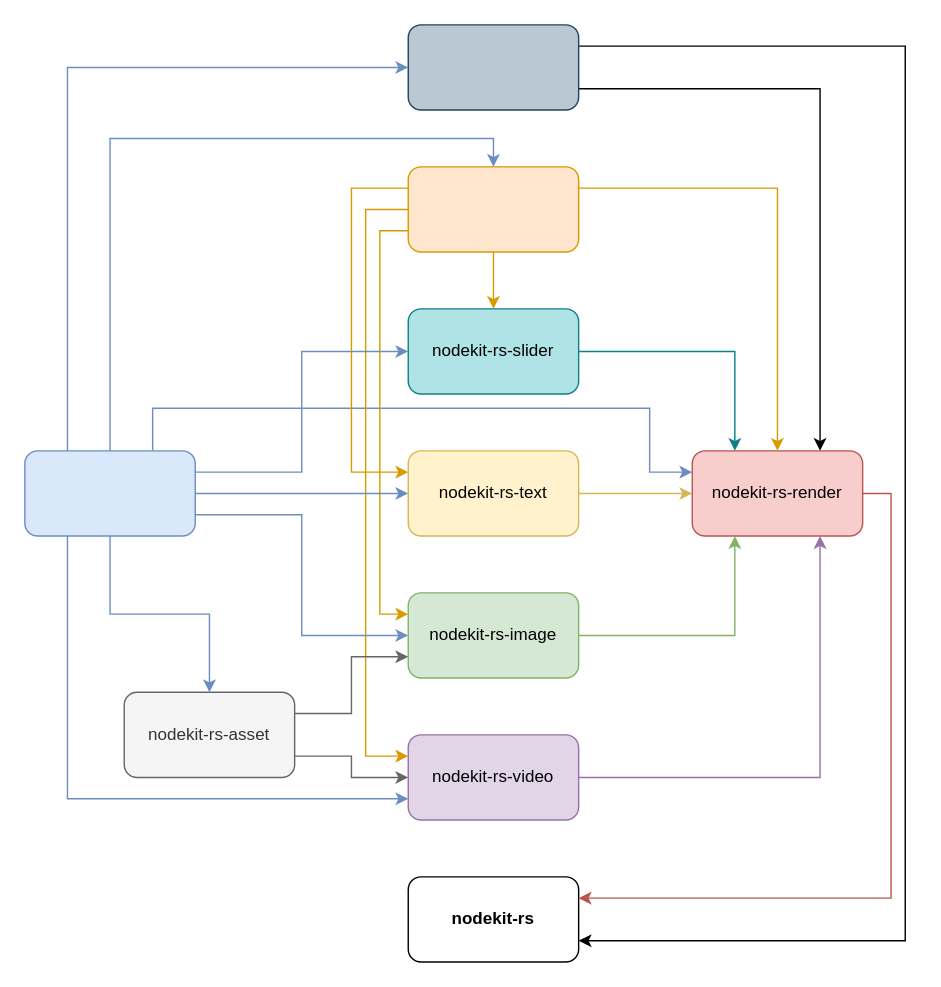
Image size: 941x987. Some labels were removed from this diagram. The centre of each missing label's shape, as x and y in pixels:
"nodekit-rs-models" belongs at (109,492).
"nodekit-rs-state" belongs at (493,66).
"nodekit-rs-visual" belongs at (493,208).
